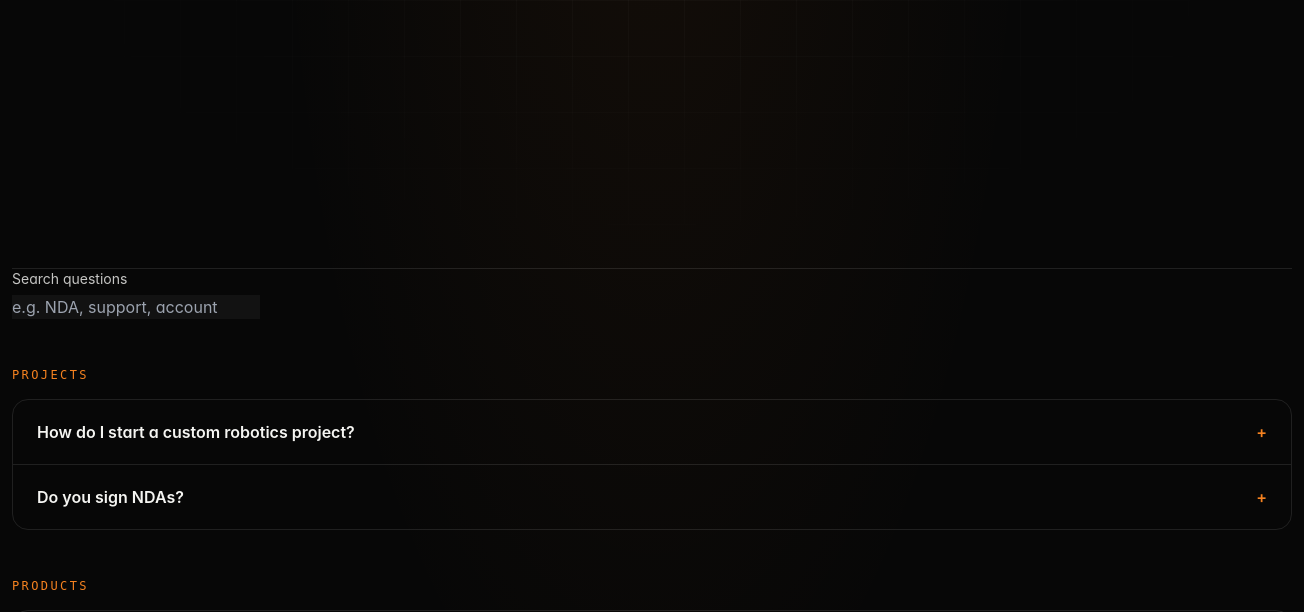
Test: FAQ page › expands and collapses an answer with correct ARIA state
Click the button "Do you sign NDAs? +" at (110, 497), box [13,465,1291,529]
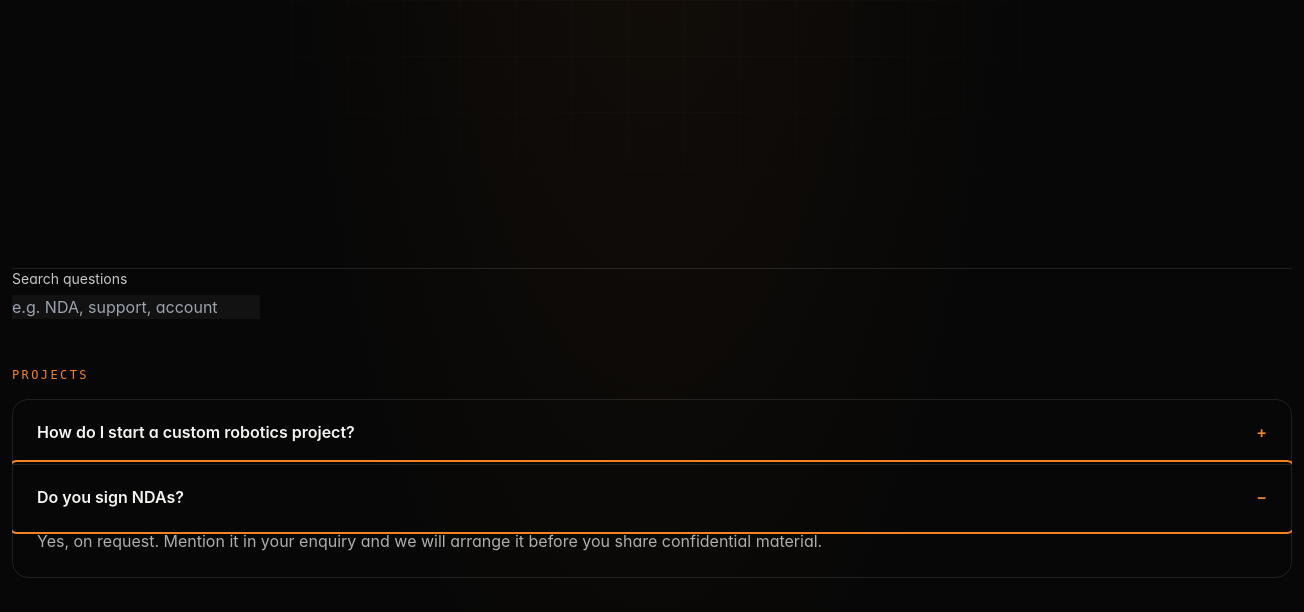
Expected: the text "Yes, on request" is shown, [37,531,822,551]
